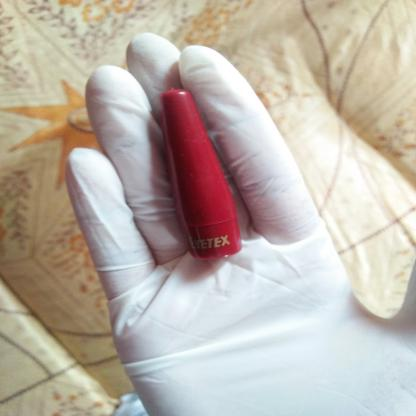gloved_hand: (63, 29, 414, 414)
